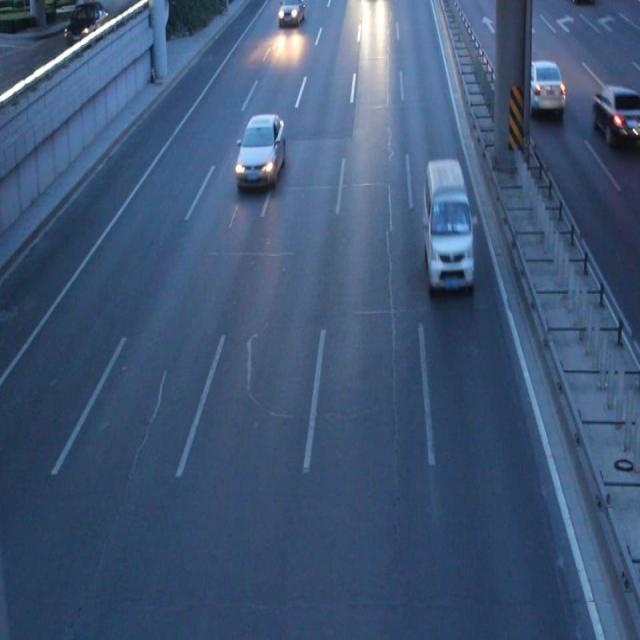car: (236, 114, 284, 184), (591, 84, 640, 148), (518, 62, 562, 109), (277, 1, 304, 25)
truck: (420, 162, 474, 287)
